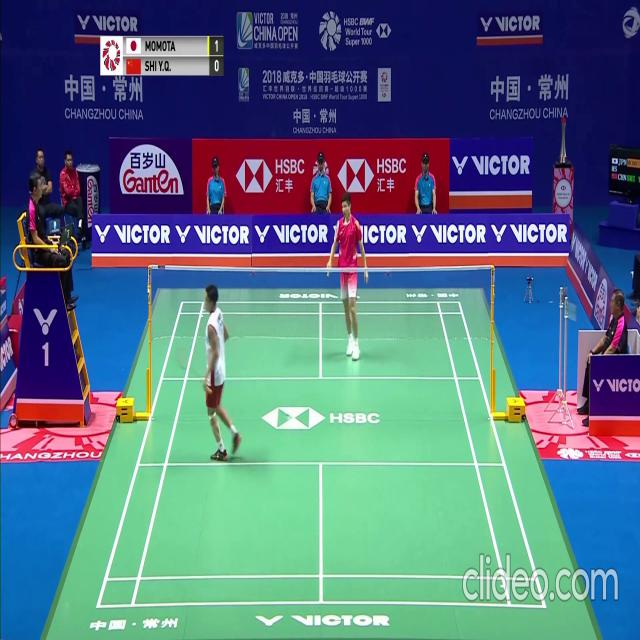Shuttlecock: (287, 410, 292, 418)
